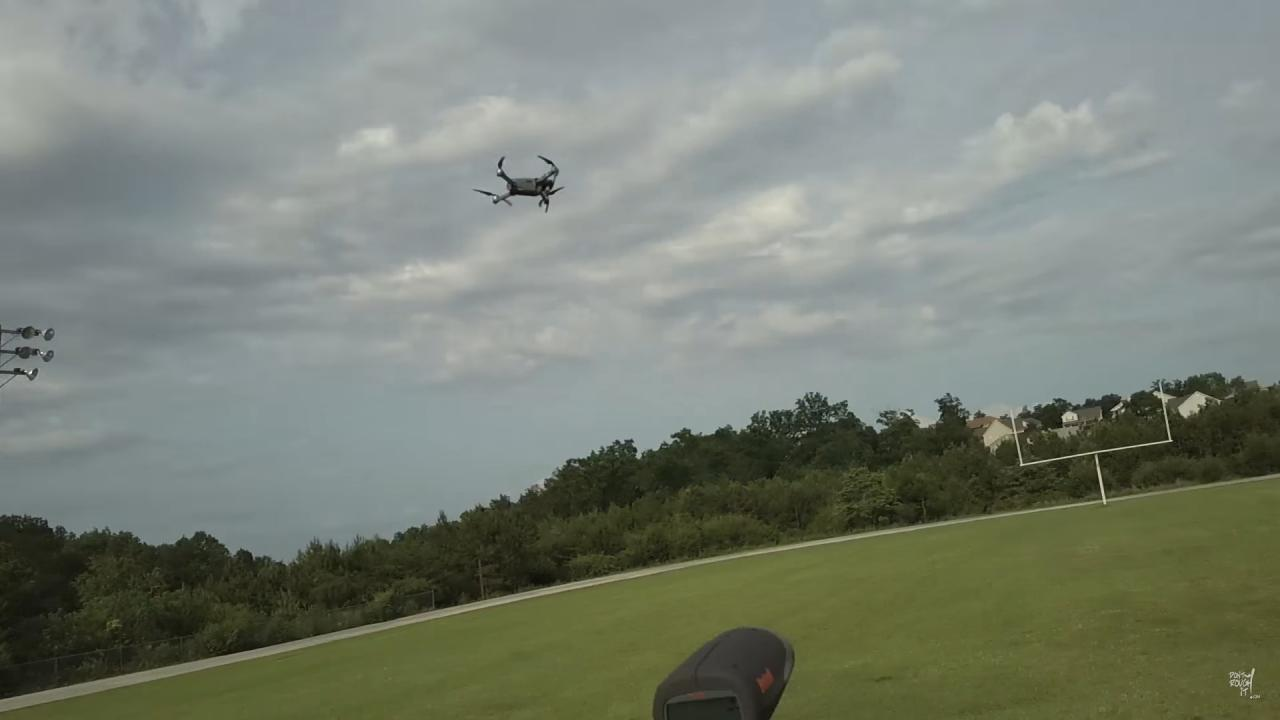Drone: (464, 144, 574, 225)
